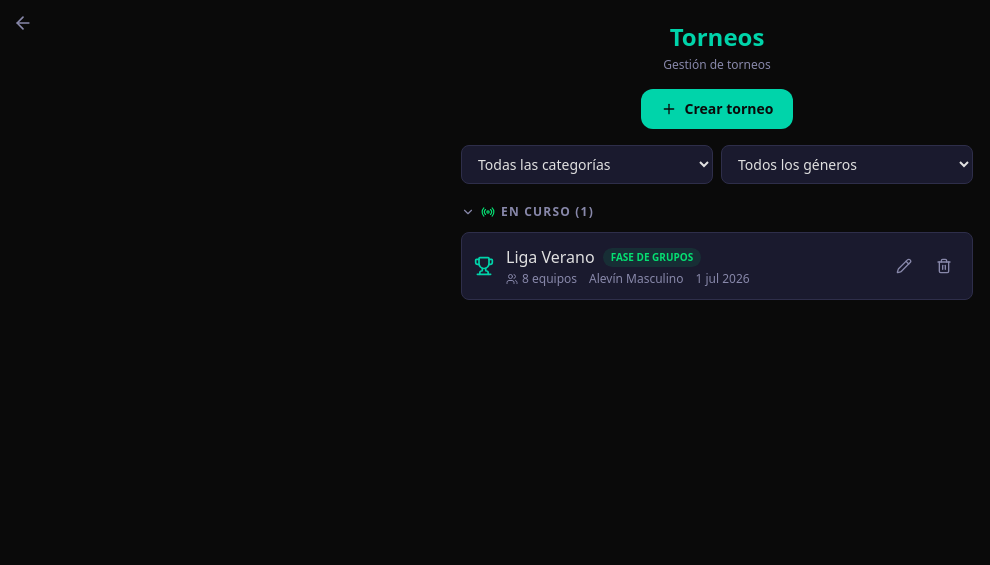
AdminTorneosPage › edit tournament › clicking edit opens form pre-populated with current values
Click the button named "Editar torneo". click: (904, 266)
box: [888,250,920,282]
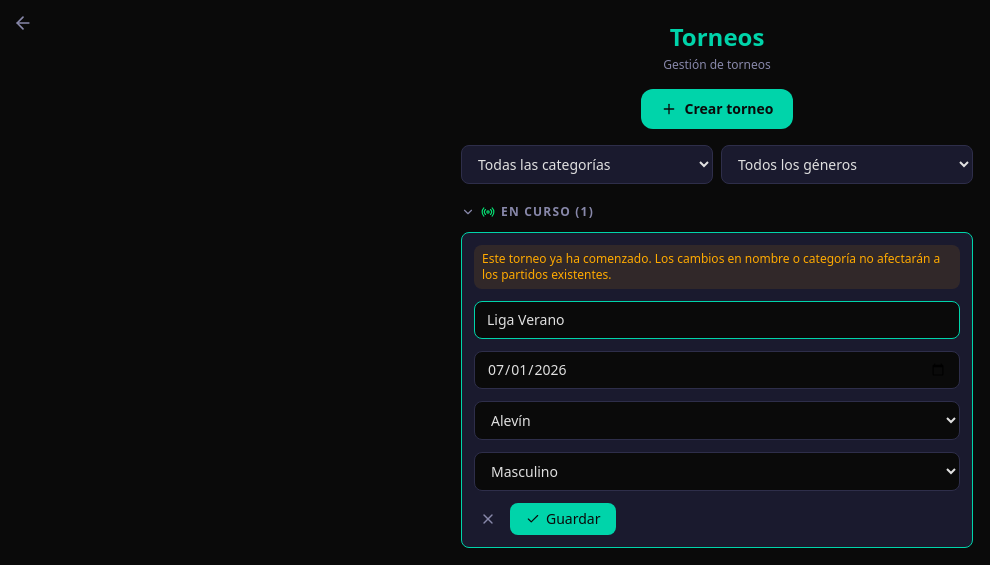
Expected: the field showing "Liga Verano" is shown, [474,301,960,339]
Expected: the date field showing "2026-07-01" is shown, [474,351,960,389]
